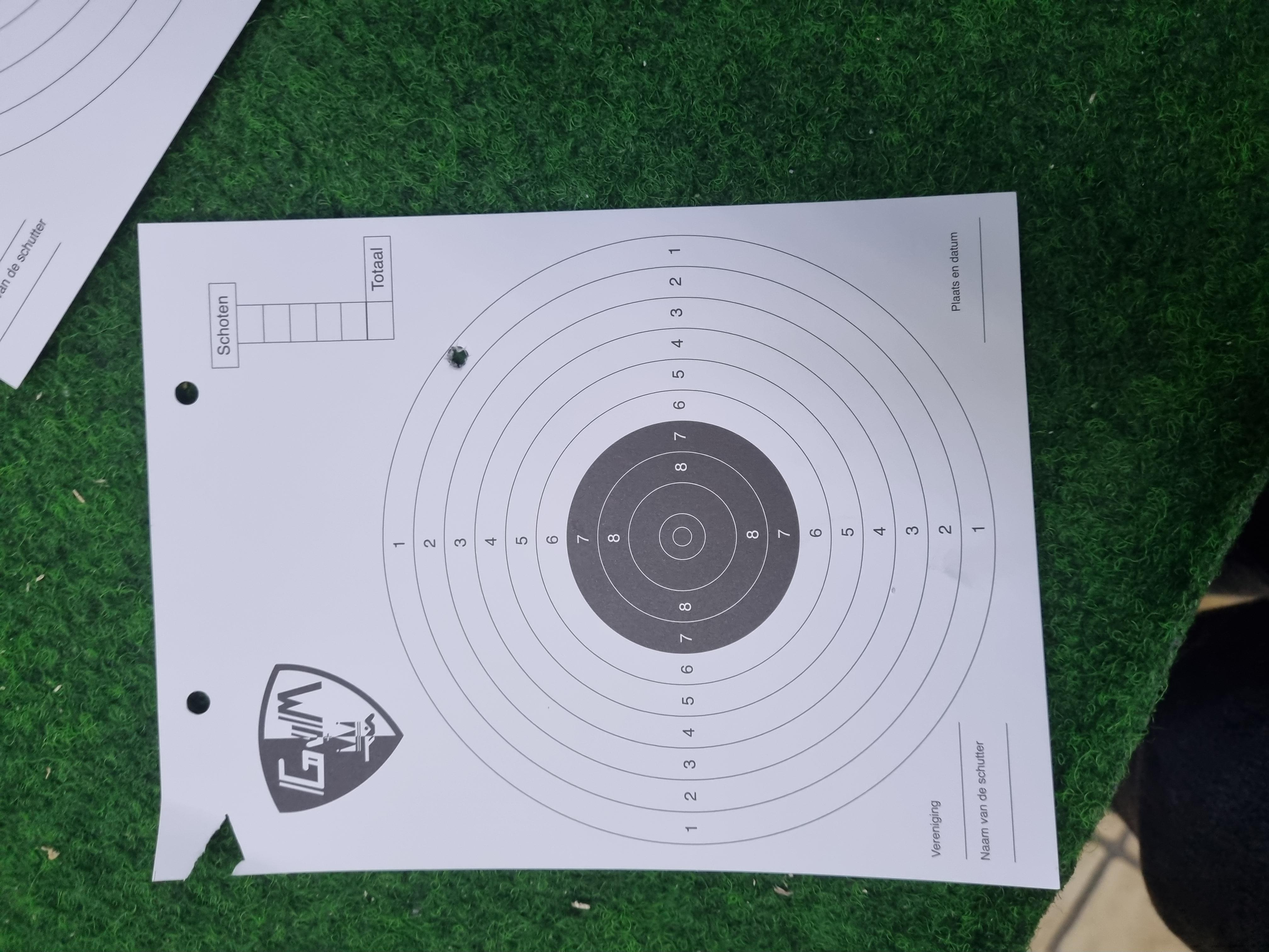hole: (774, 333, 816, 354)
